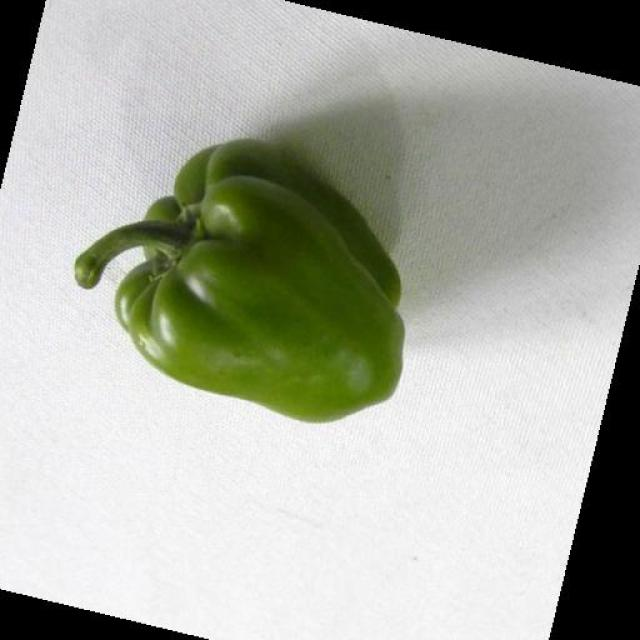Fresh_Capsicum: (65, 127, 442, 418)
